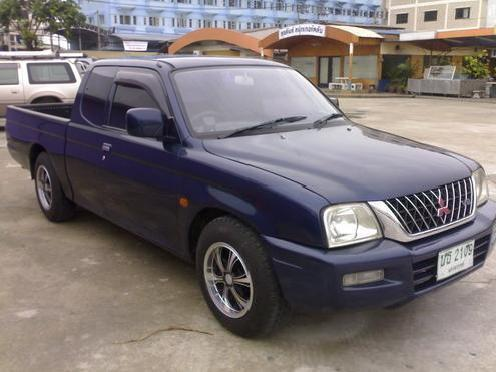pickup: (3, 54, 496, 338)
